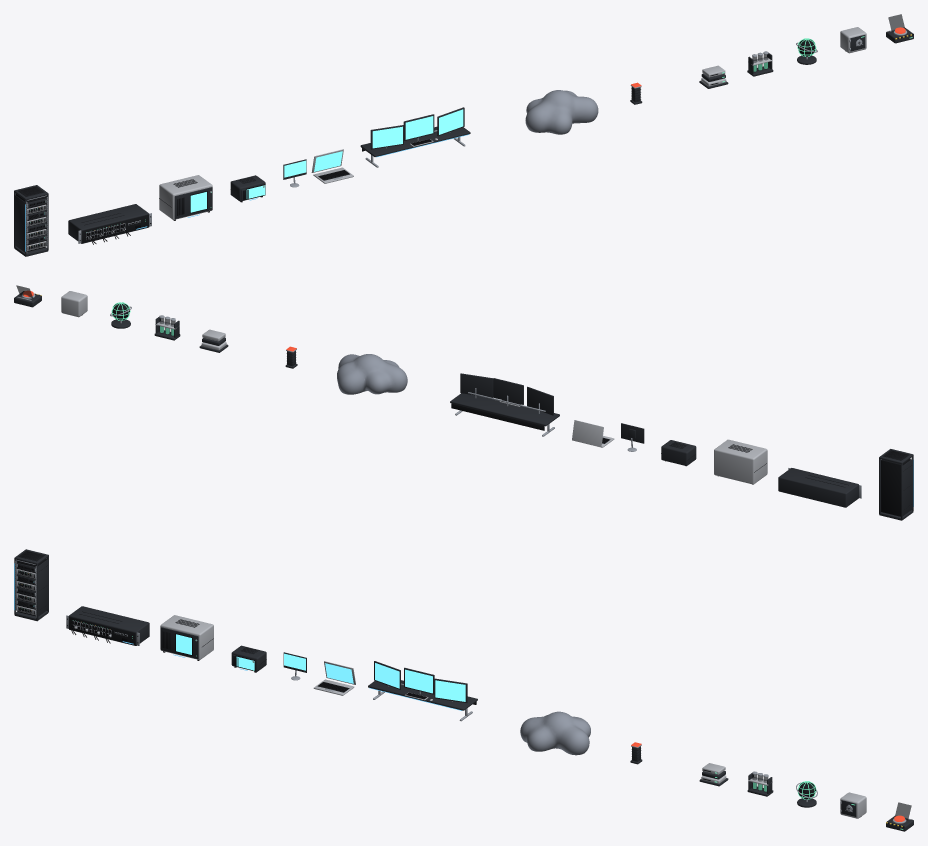
Rendered from kit.glb.
The picture shows the model from 3 angles, top to bottom: view 1: azimuth 30°, elevation 25°; view 2: azimuth 150°, elevation 25°; view 3: azimuth 330°, elevation 25°; orthographic projection.
Visible parts, largest first — view 1: cloud, rack, switch, appliance, soc, tool, p_secrets, laptop, face0, p_tests, face1; view 2: soc, cloud, rack, switch, appliance, laptop, tool, p_secrets, p_tests, p_read; view 3: cloud, rack, switch, appliance, soc, tool, p_secrets.
Part boxes in pixels (<box>): cloud: <box>525,90,598,134</box>; rack: <box>14,185,48,256</box>; switch: <box>68,204,151,244</box>; appliance: <box>159,175,212,220</box>; soc: <box>360,107,470,167</box>; tool: <box>230,175,265,202</box>; p_secrets: <box>840,27,866,53</box>; laptop: <box>311,149,353,183</box>; face0: <box>372,126,402,148</box>; p_tests: <box>747,51,773,76</box>; face1: <box>405,116,433,139</box>; soc: <box>450,373,559,436</box>; cloud: <box>337,354,407,394</box>; rack: <box>879,449,913,520</box>; switch: <box>778,468,861,507</box>; appliance: <box>714,439,767,484</box>; laptop: <box>572,420,614,447</box>; tool: <box>661,440,696,466</box>; p_secrets: <box>61,291,87,317</box>; p_tests: <box>154,315,180,340</box>; p_read: <box>199,329,228,352</box>; cloud: <box>520,711,590,755</box>; rack: <box>14,549,48,621</box>; switch: <box>66,606,149,645</box>; appliance: <box>160,615,213,660</box>; soc: <box>368,661,477,721</box>; tool: <box>231,645,266,672</box>; p_secrets: <box>840,792,866,818</box>.
Size of the model in its own units: 57.38 by 3.65 by 3.73.
